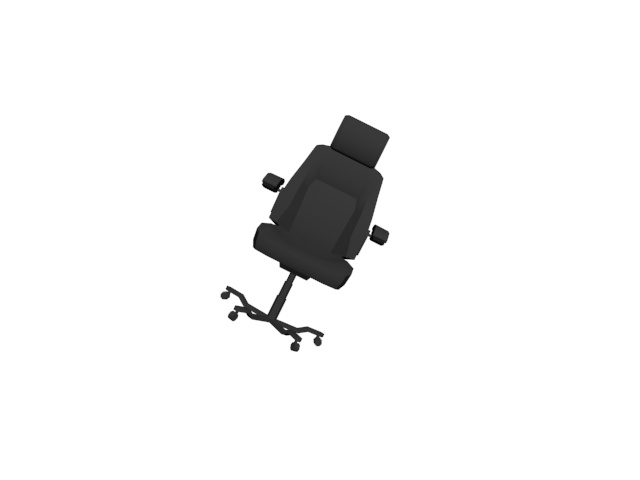desk_chair: (217, 113, 392, 354)
